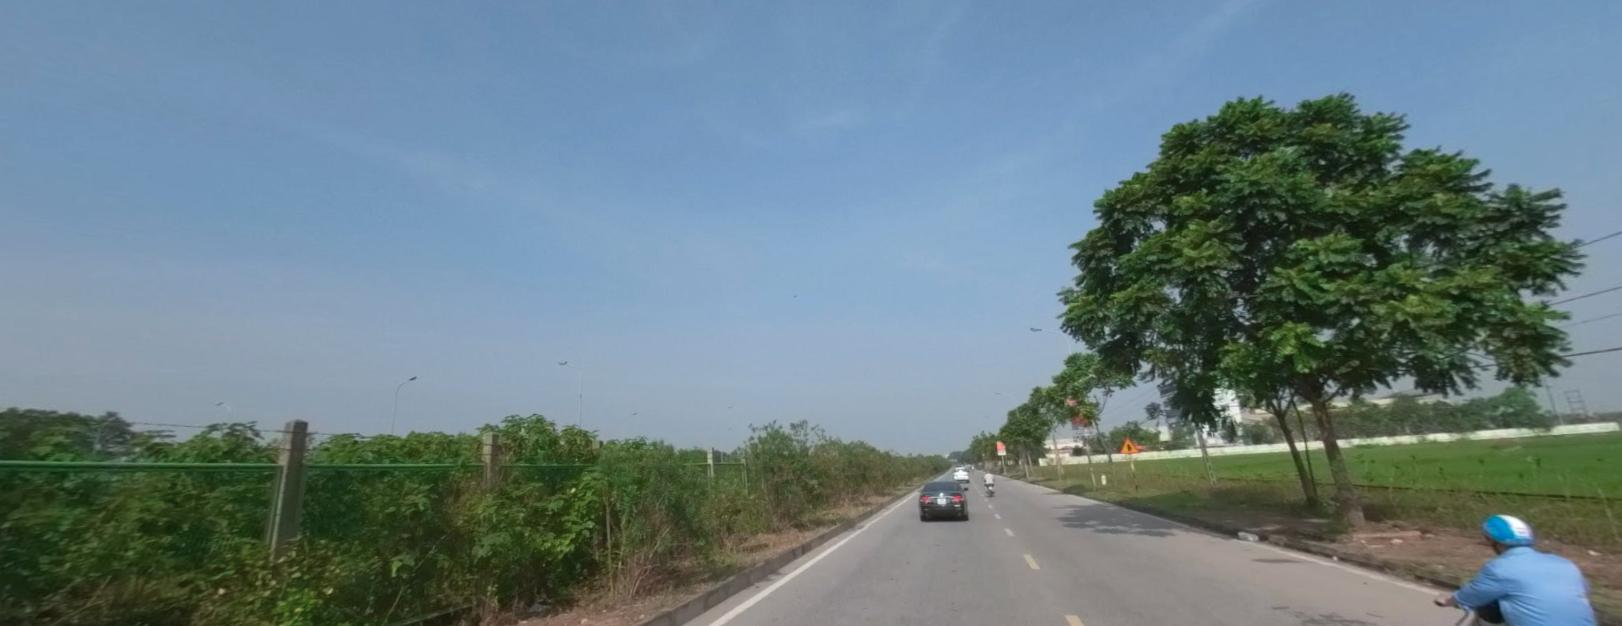Nguy hiem: (1118, 436, 1138, 452)
